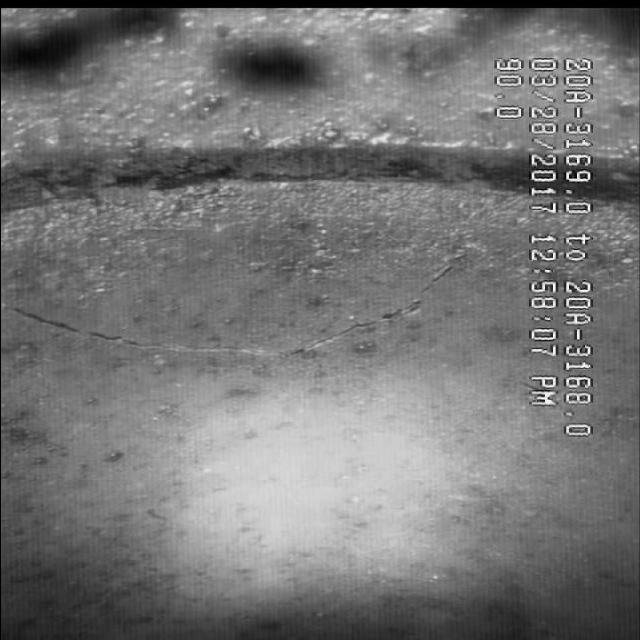Crack: (78, 260, 467, 386)
